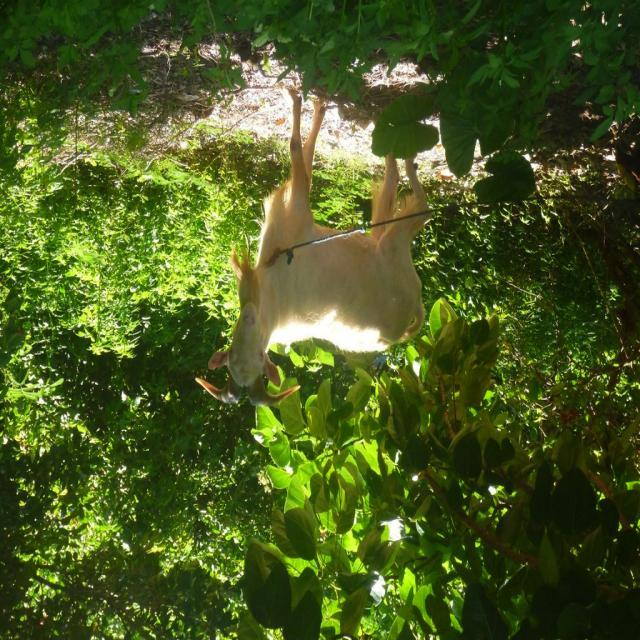Goat: (195, 88, 434, 410)
